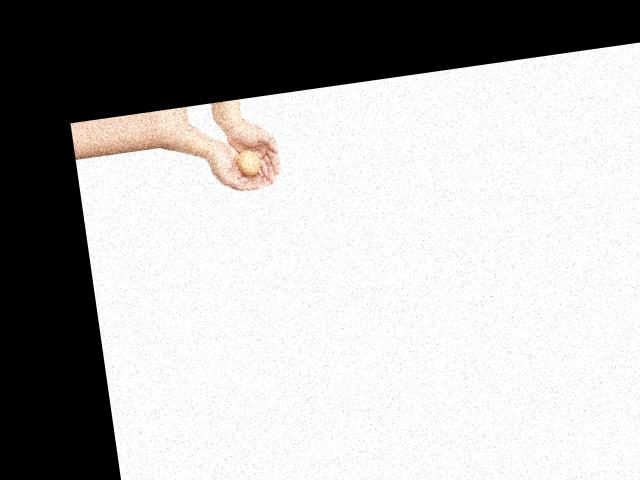egg: (235, 148, 260, 176)
